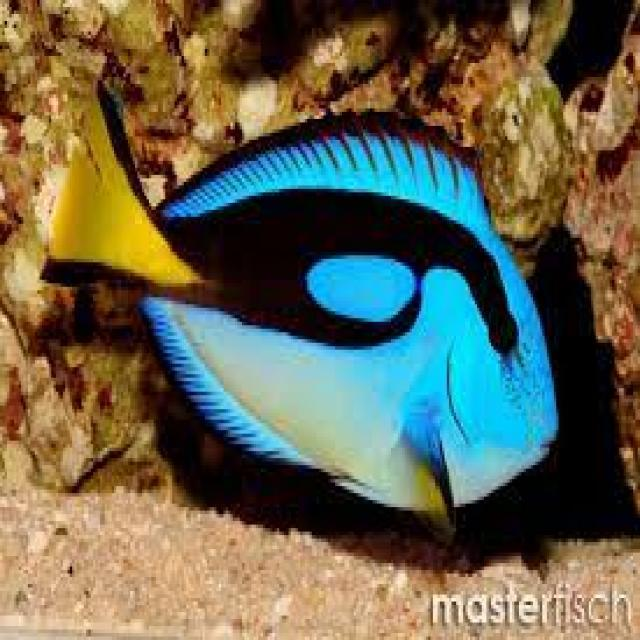BlueTang: (31, 56, 572, 556)
